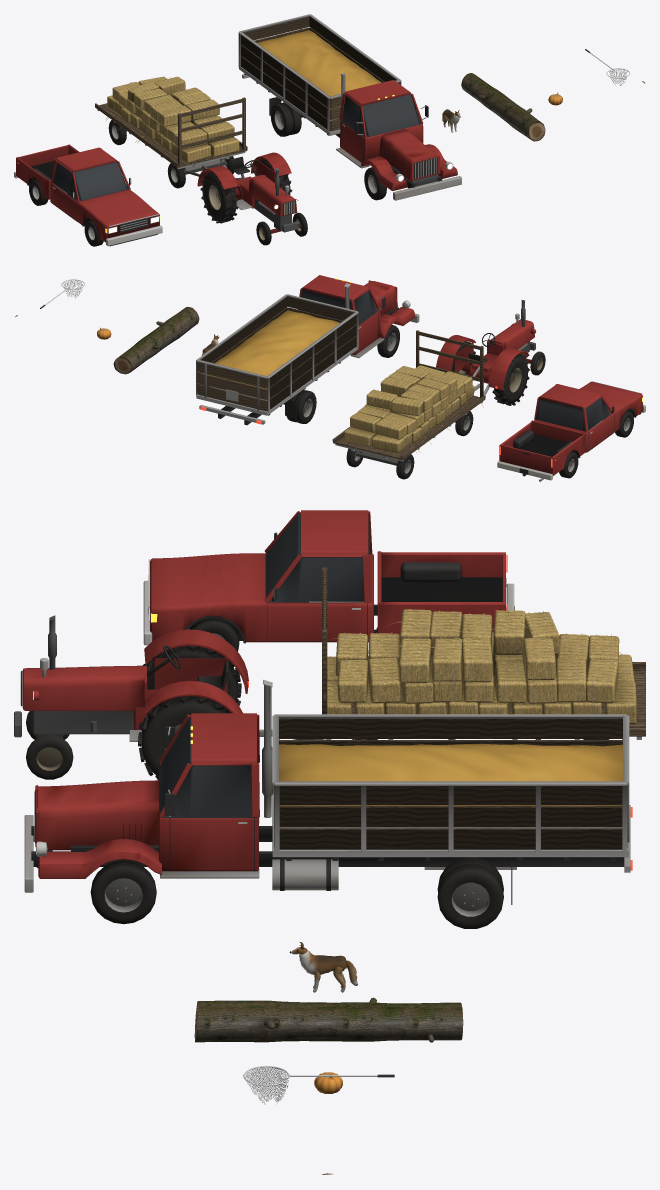
Rendered from models.glb.
The picture shows the model from 3 angles, top to bottom: view 1: azimuth 30°, elevation 25°; view 2: azimuth 150°, elevation 25°; view 3: azimuth 270°, elevation 25°; orthographic projection. The views are drawn at different scales.
Visible parts, largest first — view 1: body (×4), wheel_rr (×2), log, wheel_fr (×2); view 2: body (×4), wheel_rr (×4), log, wheel_fr (×3); view 3: body (×4), log, wheel_rl (×2), wheel_fl (×2), net, wheel_rr.
Part boxes in pixels (x1,y1,x2,y2): body (×4): (14,14,461,246); wheel_rr (×2): (200,102,301,223); log: (461,73,545,141); wheel_fr (×2): (167,163,386,200); body (×4): (196,275,645,481); wheel_rr (×4): (286,354,578,479); log: (113,306,199,374); wheel_fr (×3): (377,325,633,437); body (×4): (14,510,645,904); log: (194,997,463,1042); wheel_rl (×2): (138,696,503,928); wheel_fl (×2): (26,735,156,924); net: (243,1066,394,1104); wheel_rr: (142,646,241,713).
Bounding box in the file's own units: 20.02 × 3.21 × 9.56.
28 materials, 9 textured.
